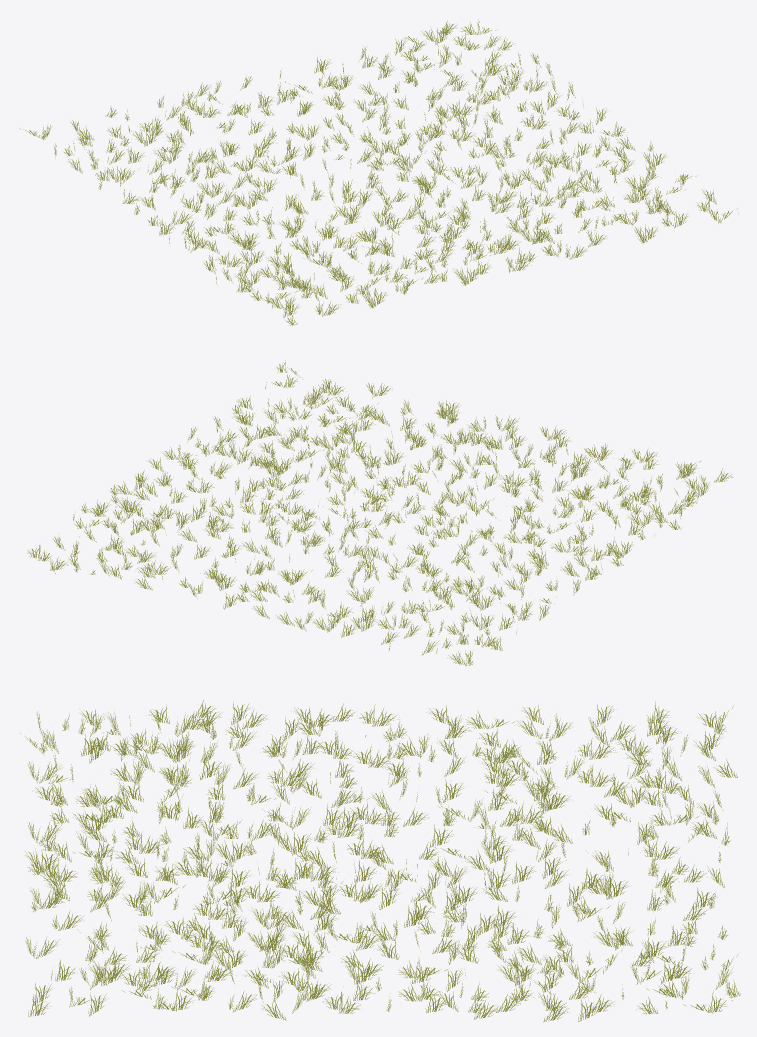
Rendered from Grass_02_LOD2.fbx.
The picture shows the model from 3 angles, top to bottom: view 1: azimuth 30°, elevation 25°; view 2: azimuth 150°, elevation 25°; view 3: azimuth 270°, elevation 25°; orthographic projection. The views are drawn at different scales.
Visible parts, largest first — view 1: Grass_07_LOD2; view 2: Grass_07_LOD2; view 3: Grass_07_LOD2.
Part boxes in pixels (box(x1,y1,x2,y2)): Grass_07_LOD2: box(19, 19, 738, 325); Grass_07_LOD2: box(27, 360, 733, 665); Grass_07_LOD2: box(20, 700, 740, 1022).
Bounding box in the file's own units: 471 × 461 × 17.74.
